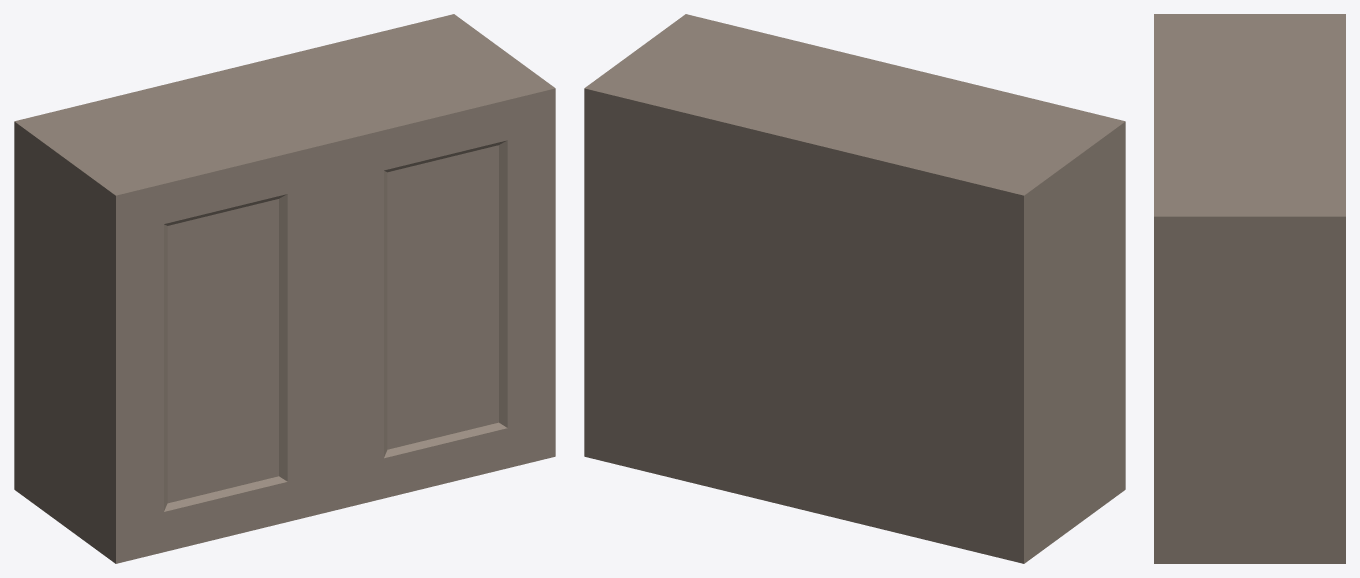
The model's file is WHP-Wall-Cabinet-Double-Door-Shelves_std_001_H24in_onlyH.glb.
The picture shows the model from 3 angles, left to right: view 1: azimuth 30°, elevation 25°; view 2: azimuth 150°, elevation 25°; view 3: azimuth 270°, elevation 25°; orthographic projection. The views are drawn at different scales.
Parts seen in each view (by area): view 1: WHP-Wall-Cabinet-Double-Door-Shelves.std.001_H24in_onlyH; view 2: WHP-Wall-Cabinet-Double-Door-Shelves.std.001_H24in_onlyH; view 3: WHP-Wall-Cabinet-Double-Door-Shelves.std.001_H24in_onlyH.
Part boxes in pixels (x1,y1,x2,y2): WHP-Wall-Cabinet-Double-Door-Shelves.std.001_H24in_onlyH: (14,14,555,563); WHP-Wall-Cabinet-Double-Door-Shelves.std.001_H24in_onlyH: (584,14,1125,563); WHP-Wall-Cabinet-Double-Door-Shelves.std.001_H24in_onlyH: (1154,14,1345,563).
Bounding box in the file's own units: 0.762 × 0.6096 × 0.3048.
